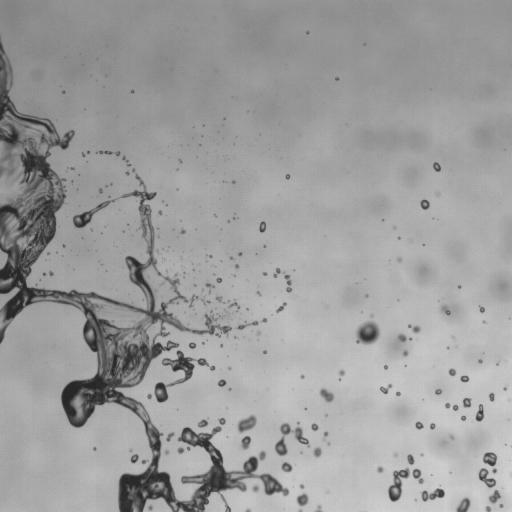droplet: (388, 467, 423, 501), (274, 422, 309, 455), (355, 319, 380, 345), (237, 414, 256, 433), (482, 452, 497, 473), (296, 493, 308, 511), (319, 388, 334, 402), (455, 497, 470, 511), (475, 404, 484, 421), (489, 490, 500, 503), (227, 300, 239, 311), (240, 436, 250, 449), (440, 304, 450, 315), (281, 462, 292, 472), (380, 384, 392, 393), (420, 199, 429, 209), (409, 325, 420, 333), (197, 419, 208, 427), (273, 268, 282, 277), (397, 334, 407, 342), (313, 447, 321, 457), (463, 398, 471, 407), (166, 432, 174, 441), (407, 454, 414, 464), (259, 221, 265, 232), (415, 421, 423, 429), (433, 162, 440, 171), (217, 379, 226, 386), (131, 454, 138, 463), (206, 283, 214, 290), (460, 375, 468, 382), (252, 484, 259, 492), (488, 392, 494, 401), (448, 368, 455, 375), (311, 423, 318, 430), (189, 342, 196, 348), (339, 370, 345, 377), (315, 505, 322, 511), (216, 296, 222, 302), (377, 466, 383, 472), (147, 505, 153, 511), (479, 305, 484, 312), (323, 432, 328, 439), (216, 277, 222, 282), (403, 350, 408, 356), (435, 389, 441, 394), (430, 423, 435, 429), (485, 506, 491, 511), (461, 415, 466, 420), (261, 318, 267, 322), (114, 151, 119, 155), (285, 174, 289, 179), (158, 210, 162, 215), (181, 229, 185, 234), (256, 291, 260, 296), (396, 391, 400, 396), (147, 394, 151, 399), (245, 508, 251, 511), (397, 257, 401, 261), (49, 271, 53, 275), (478, 359, 482, 363), (450, 435, 454, 439), (165, 450, 169, 454), (300, 484, 304, 488), (98, 189, 102, 192), (235, 264, 238, 268), (257, 331, 260, 335), (384, 365, 387, 369), (300, 375, 304, 378), (207, 255, 212, 257), (126, 171, 129, 174), (436, 192, 439, 195), (263, 272, 266, 275), (263, 350, 266, 353), (496, 361, 499, 364), (503, 387, 506, 390), (239, 252, 241, 256), (336, 77, 338, 80), (132, 169, 135, 171), (230, 256, 232, 259), (458, 285, 460, 288), (409, 337, 411, 340), (228, 367, 231, 369), (394, 454, 397, 456), (500, 504, 502, 507), (307, 31, 309, 33), (131, 90, 133, 92), (179, 160, 181, 162), (227, 220, 229, 222), (398, 237, 400, 239), (233, 274, 235, 276), (366, 294, 368, 296), (483, 321, 485, 323), (130, 449, 132, 451)
ligament: (0, 39, 286, 511), (154, 350, 215, 402), (72, 198, 116, 228), (478, 468, 495, 488), (421, 487, 444, 501), (236, 321, 258, 329), (283, 273, 291, 292), (275, 302, 286, 312), (445, 402, 458, 410), (122, 156, 129, 165), (98, 150, 112, 154), (82, 151, 89, 156), (68, 167, 73, 170)
